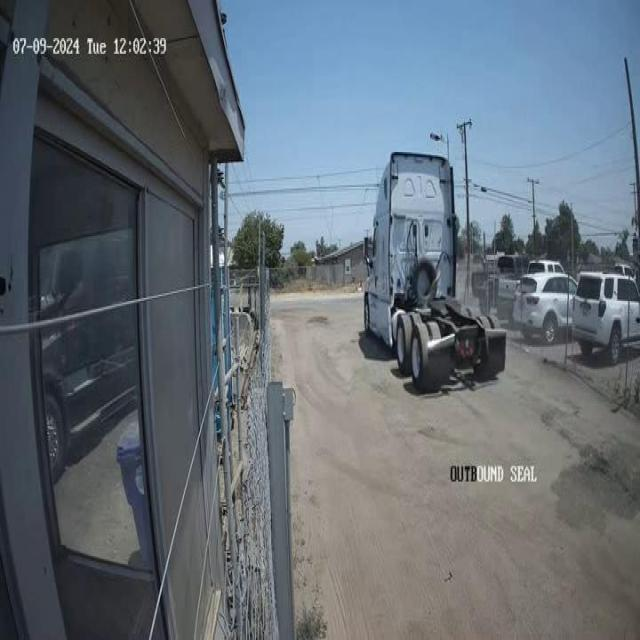BOBTAIL: (362, 150, 506, 392)
